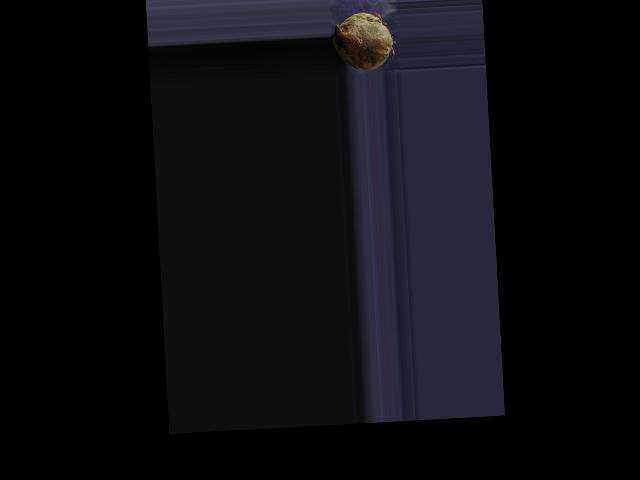beet: (331, 10, 396, 71)
